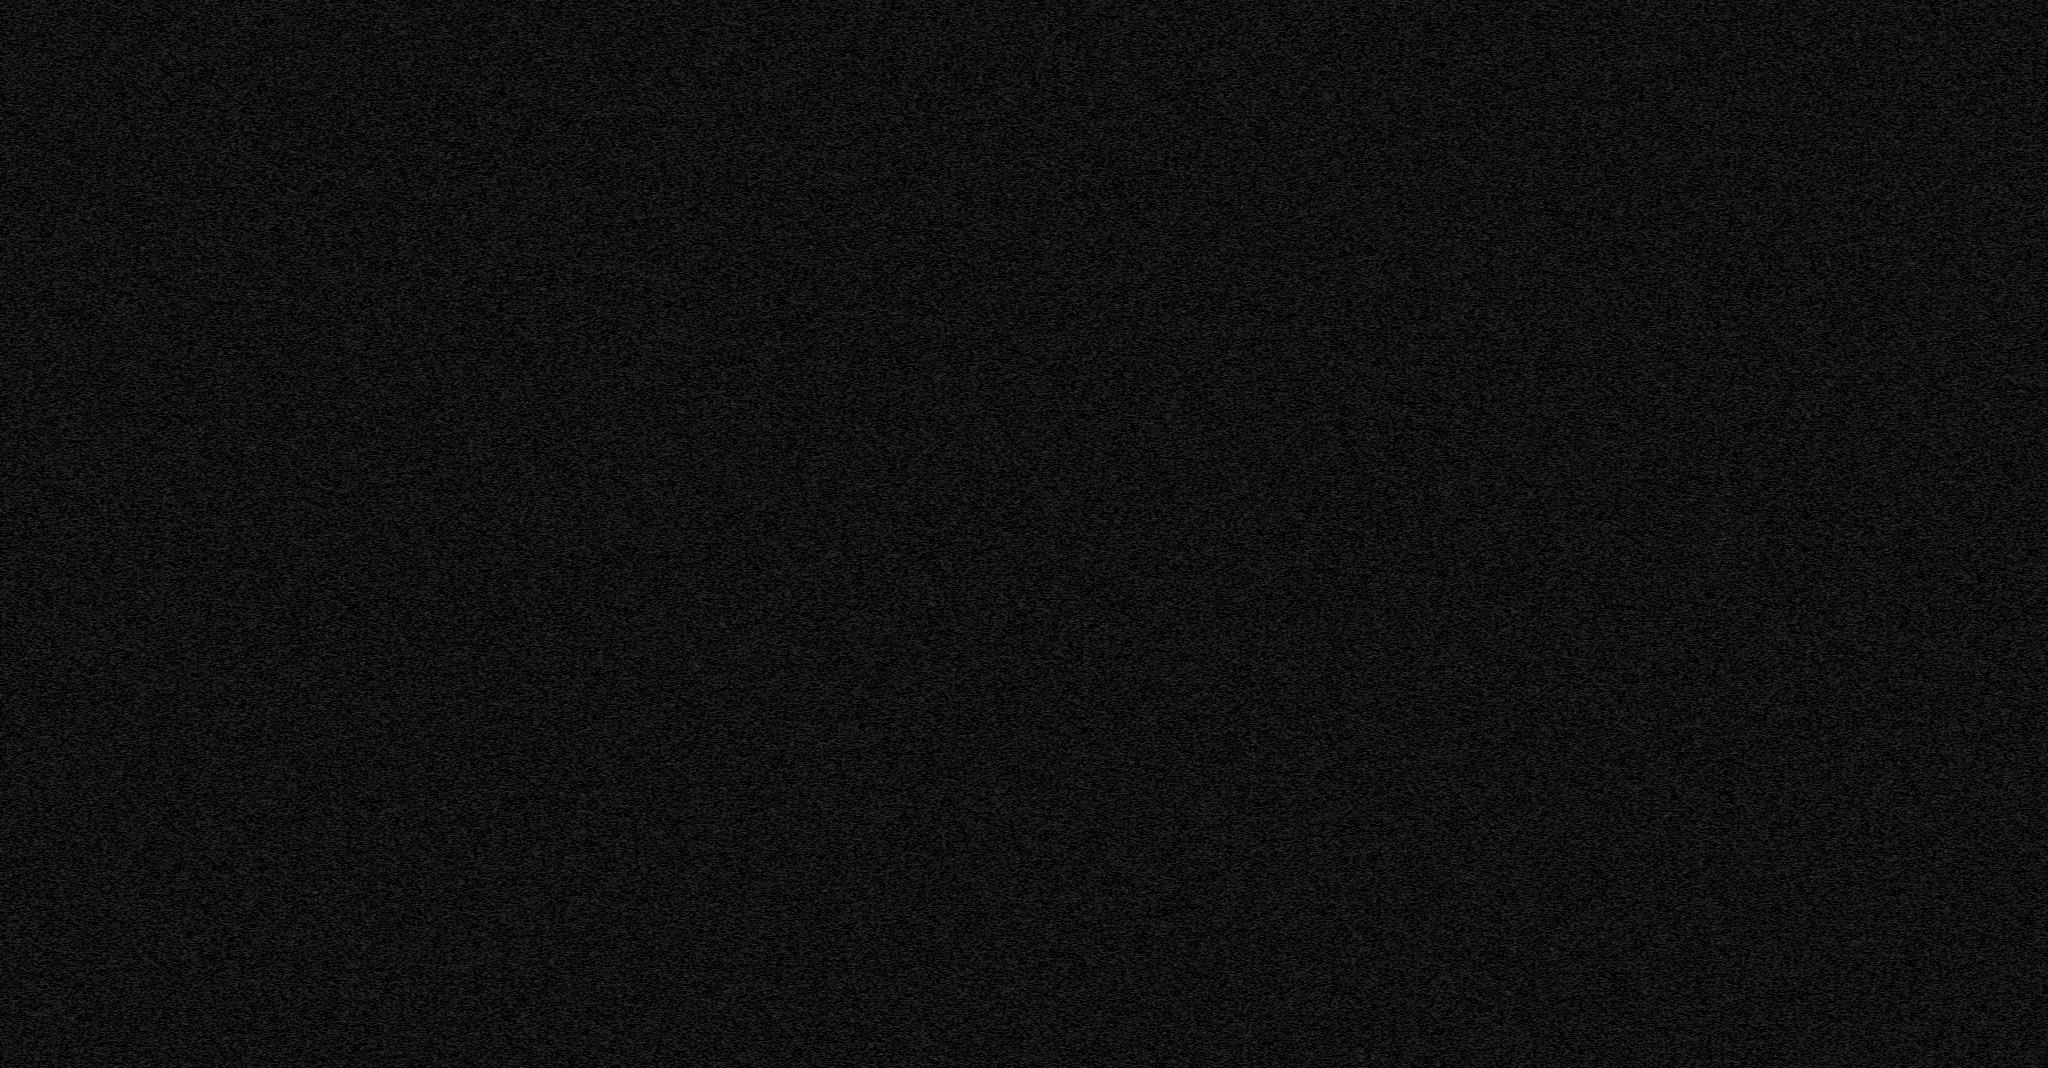wv_am: (1911, 1, 1917, 1067)
wv_lsb: (1711, 232, 1716, 405), (1711, 427, 1716, 512), (1711, 543, 1716, 599), (1657, 951, 1661, 1007), (1711, 1021, 1715, 1067), (1657, 798, 1661, 839), (1711, 514, 1716, 542), (1657, 876, 1661, 909), (1711, 766, 1715, 800), (1657, 155, 1661, 187), (1711, 964, 1715, 993), (1711, 622, 1715, 651), (1657, 546, 1661, 575), (1711, 676, 1715, 703), (1711, 937, 1715, 962), (1711, 407, 1716, 426), (1657, 766, 1661, 787), (1711, 993, 1715, 1015), (1711, 133, 1715, 153), (1711, 877, 1715, 897), (1657, 634, 1661, 653), (1711, 164, 1716, 178), (1657, 413, 1661, 431), (1711, 904, 1715, 922), (1657, 713, 1661, 729), (1657, 374, 1661, 390), (1657, 924, 1661, 941), (1711, 819, 1715, 834), (1657, 854, 1661, 867), (1657, 1027, 1661, 1041), (1657, 515, 1661, 529), (1657, 451, 1661, 465), (1657, 699, 1661, 712), (1657, 672, 1661, 684), (1657, 607, 1661, 619), (1657, 472, 1661, 484), (1657, 141, 1661, 153), (1657, 111, 1661, 123), (1657, 911, 1661, 923), (1657, 659, 1661, 670), (1657, 1010, 1661, 1021), (1657, 295, 1661, 306), (1657, 244, 1661, 255), (1711, 924, 1715, 935), (1711, 847, 1715, 858), (1711, 218, 1715, 228), (1711, 207, 1715, 217), (1657, 398, 1661, 408), (1657, 226, 1661, 236), (1657, 207, 1661, 217), (1712, 659, 1715, 672), (1711, 613, 1715, 621), (1657, 686, 1661, 694), (1657, 131, 1661, 140), (1657, 102, 1661, 110), (1711, 126, 1716, 131), (1712, 865, 1715, 876), (1712, 749, 1715, 760), (1657, 1052, 1661, 1059), (1657, 867, 1661, 874), (1711, 190, 1715, 197), (1711, 179, 1715, 186), (1657, 790, 1661, 797), (1657, 1044, 1661, 1050), (1657, 365, 1661, 371), (1657, 346, 1661, 352), (1657, 218, 1661, 225), (1657, 941, 1661, 947), (1657, 60, 1661, 66), (1712, 809, 1715, 819), (1712, 733, 1715, 743), (1712, 721, 1715, 731), (1657, 840, 1661, 846), (1657, 745, 1661, 751), (1657, 740, 1661, 745), (1657, 590, 1661, 595), (1657, 359, 1661, 365), (1657, 194, 1661, 199), (1712, 651, 1715, 657), (1712, 604, 1715, 611), (1657, 1059, 1661, 1063), (1711, 155, 1715, 159), (1657, 760, 1661, 764), (1657, 735, 1661, 739), (1657, 695, 1661, 699), (1657, 622, 1661, 626), (1657, 596, 1661, 600), (1657, 1023, 1661, 1027), (1657, 466, 1661, 470), (1657, 436, 1661, 440), (1657, 340, 1661, 344), (1657, 331, 1661, 335), (1657, 321, 1661, 325), (1657, 256, 1661, 260), (1657, 237, 1661, 241), (1657, 201, 1661, 205), (1657, 127, 1661, 131), (1657, 52, 1661, 56), (1657, 33, 1661, 37), (1657, 14, 1661, 18), (1712, 201, 1715, 206), (1712, 840, 1715, 846), (1712, 801, 1715, 806), (1712, 744, 1715, 749), (1712, 709, 1715, 714), (1712, 703, 1715, 707), (1712, 600, 1715, 604), (1711, 160, 1715, 163), (1657, 847, 1661, 850), (1657, 756, 1661, 759), (1657, 752, 1661, 755), (1657, 731, 1661, 733), (1657, 628, 1661, 630), (1657, 603, 1661, 606), (1657, 575, 1661, 577), (1657, 542, 1661, 545), (1657, 511, 1661, 514), (1657, 443, 1661, 446), (1657, 327, 1661, 329), (1657, 308, 1661, 310), (1712, 899, 1715, 903), (1712, 835, 1715, 839), (1712, 861, 1715, 863)
wv_wbfm: (164, 0, 192, 1067), (1866, 0, 1885, 1067)
